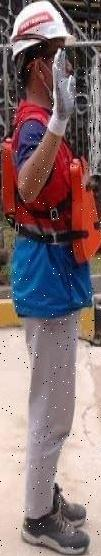boots: (20, 505, 90, 555), (23, 483, 86, 527)
gloves: (46, 46, 76, 135)
hard-hat: (9, 0, 72, 61)
vest: (0, 100, 99, 318)
